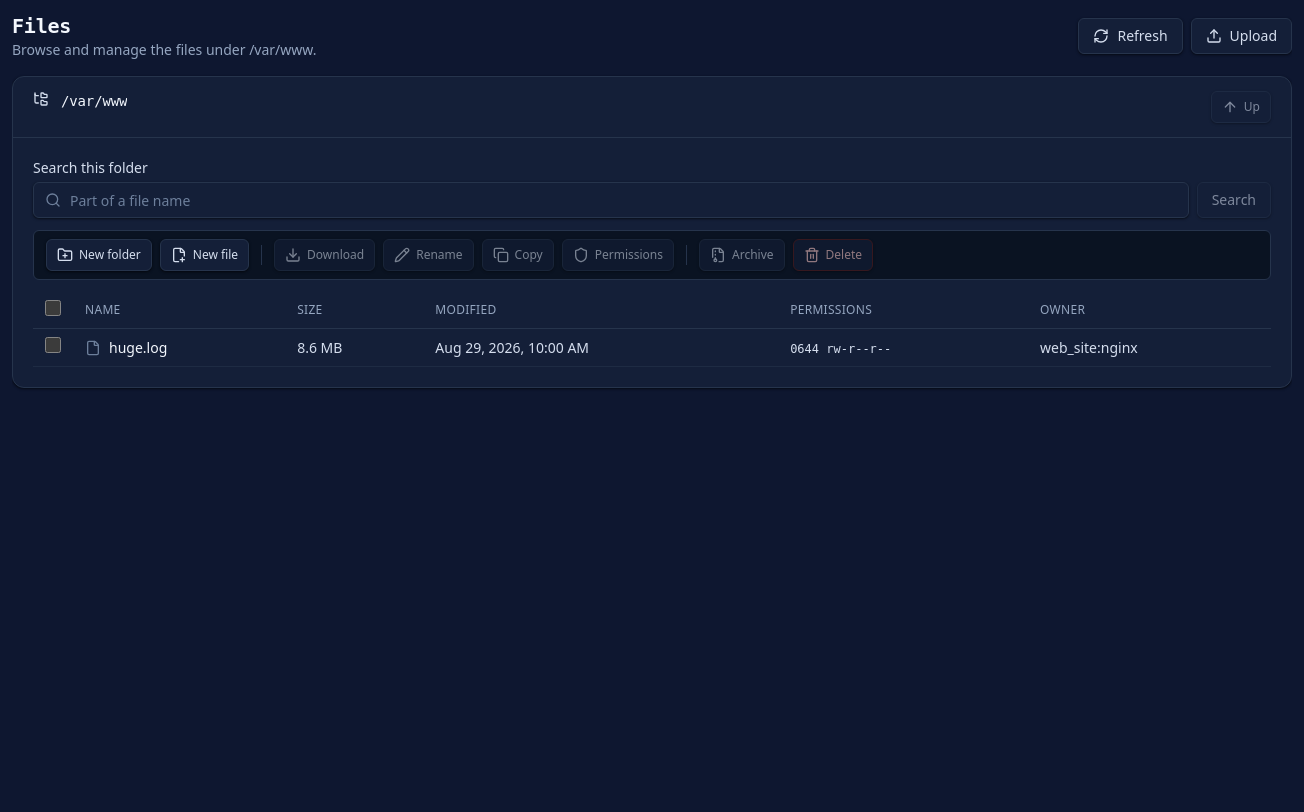
Test case: FilesPage file actions › will not offer the editor for a file that is too large
Click the button "huge.log" at (138, 348), box [109,338,167,358]
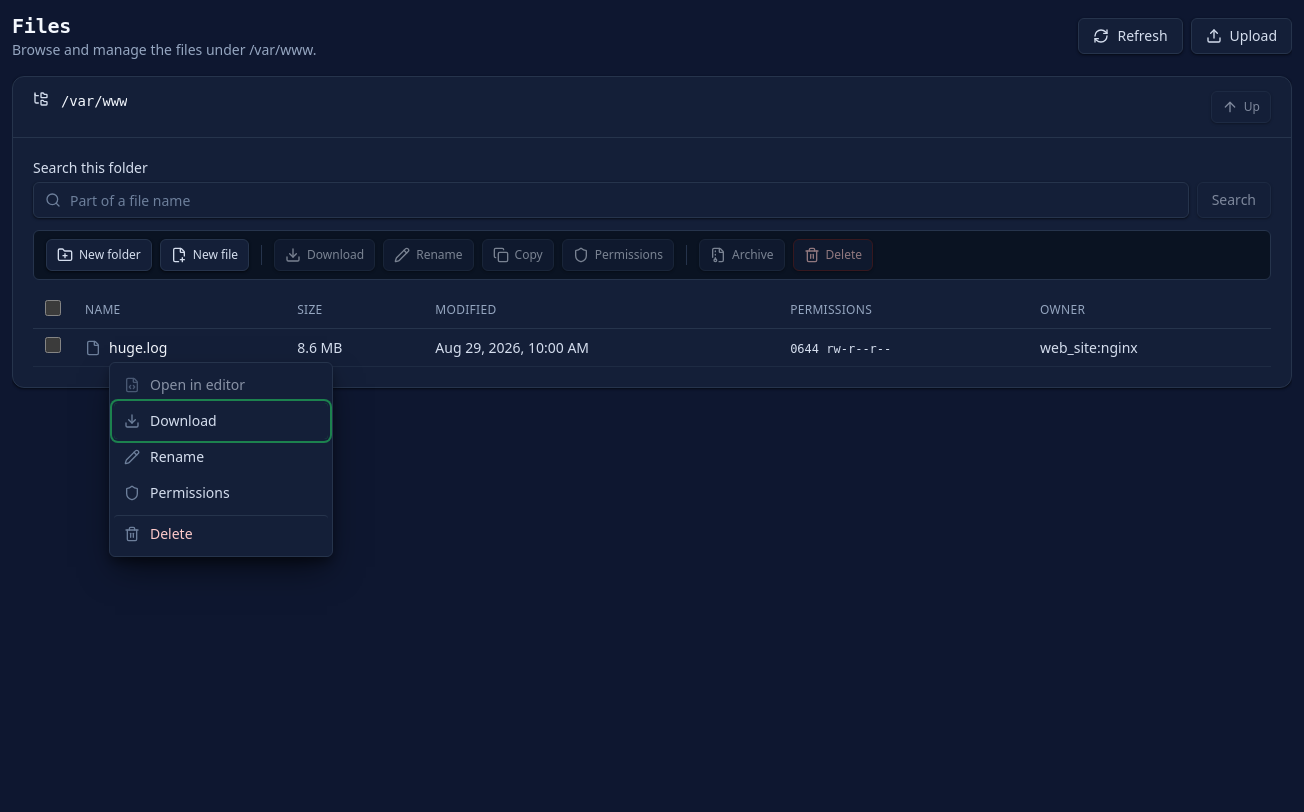
Now the menu item "Open in editor" is disabled, box [114,366,328,402]
Now the menu item "Download" is enabled, box [114,402,328,438]
